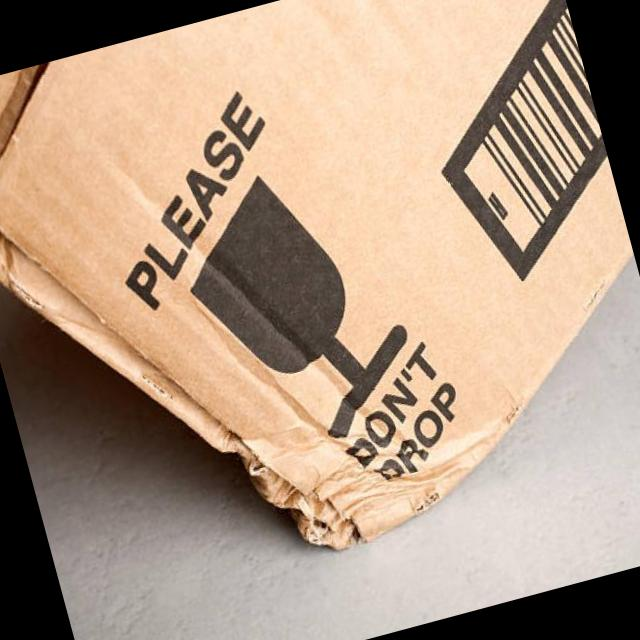box: (0, 0, 640, 548)
crushed: (221, 434, 478, 544)
